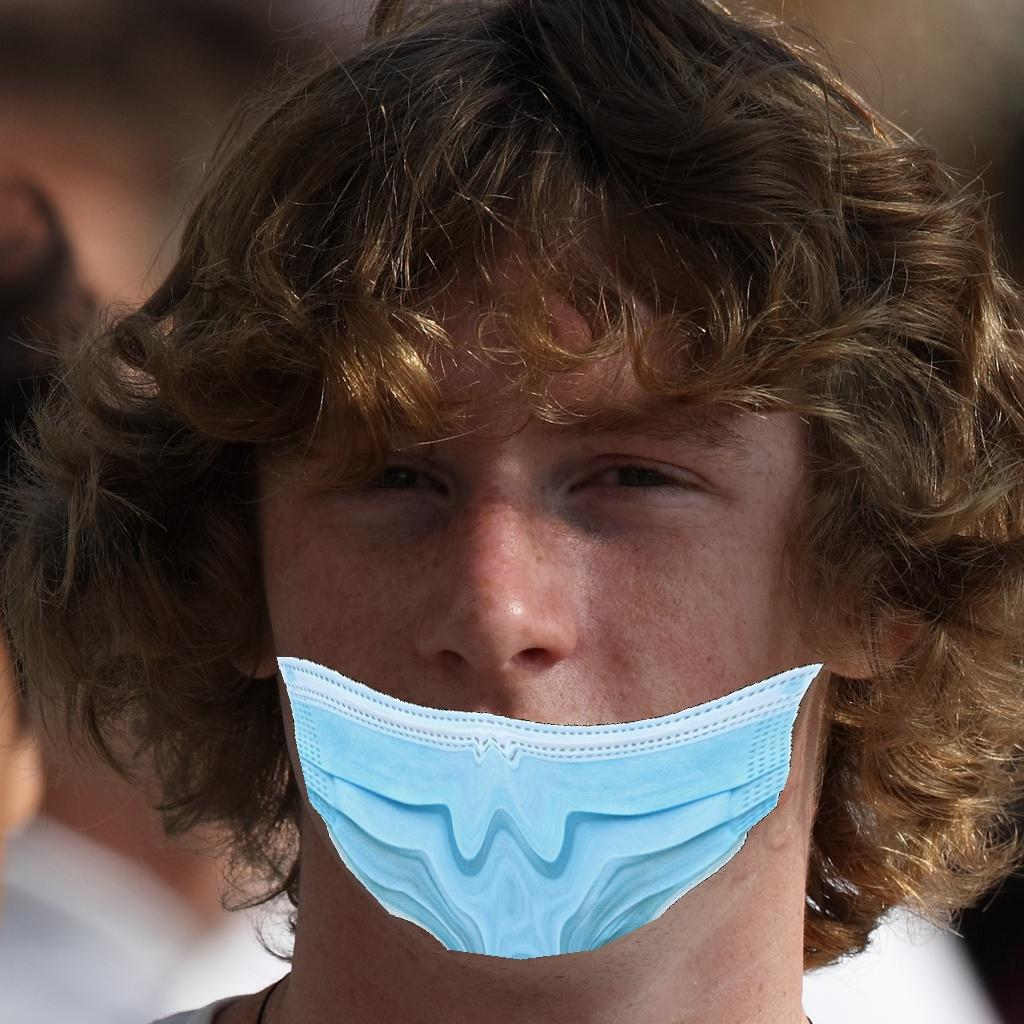Máscara Incorreta: (258, 395, 820, 932)
